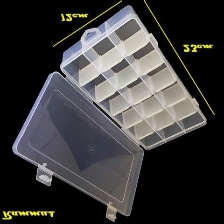plastic_box: (6, 0, 213, 224)
